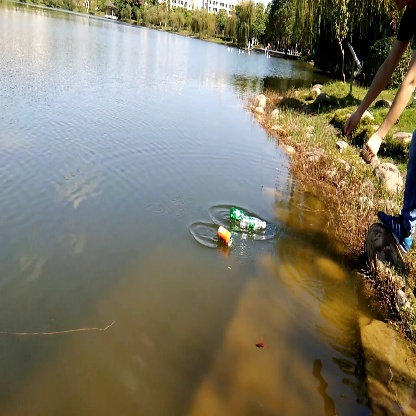bottle: (216, 226, 235, 252)
